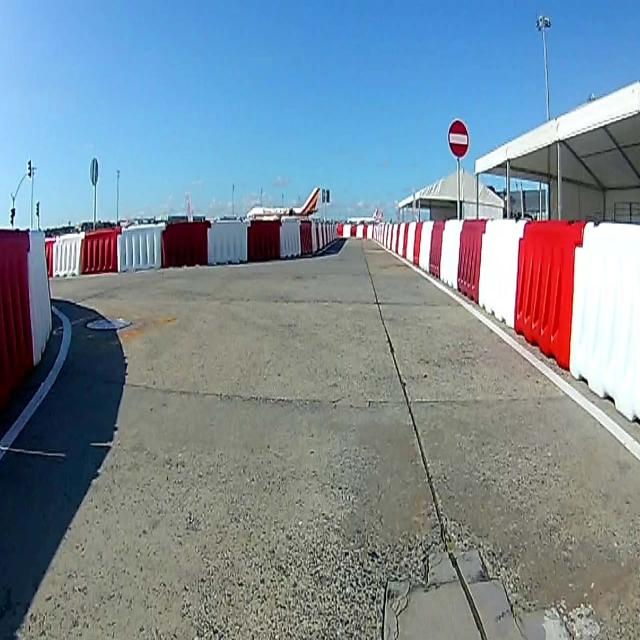girisyok: (446, 117, 470, 160)
